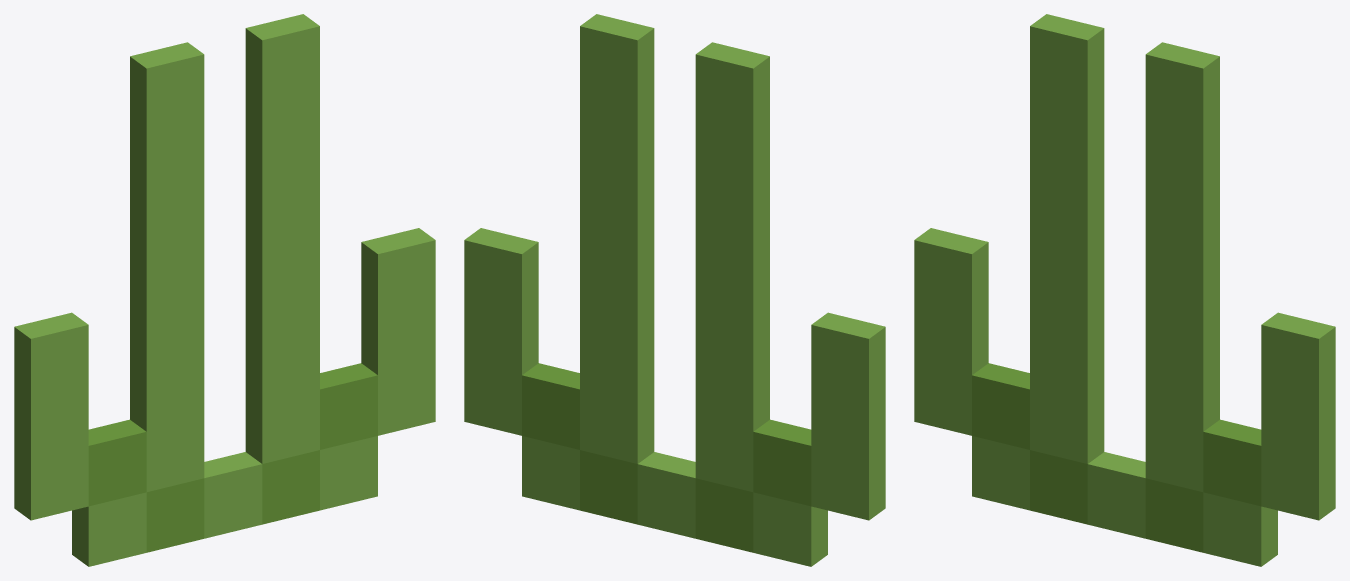
Rendered from Tall Grass.glb.
3 renders of one model, left to right at view 1: azimuth 30°, elevation 25°; view 2: azimuth 150°, elevation 25°; view 3: azimuth 330°, elevation 25°, orthographic.
Visible parts, largest first — view 1: generated(Clone); view 2: generated(Clone); view 3: generated(Clone).
Part boxes in pixels (x1,y1,x2,y2): generated(Clone): [14, 14, 435, 566]; generated(Clone): [464, 14, 885, 566]; generated(Clone): [914, 14, 1335, 566].
Bounding box in the file's own units: 14 × 16 × 1.
Materials: 1 (1 with a texture image).
